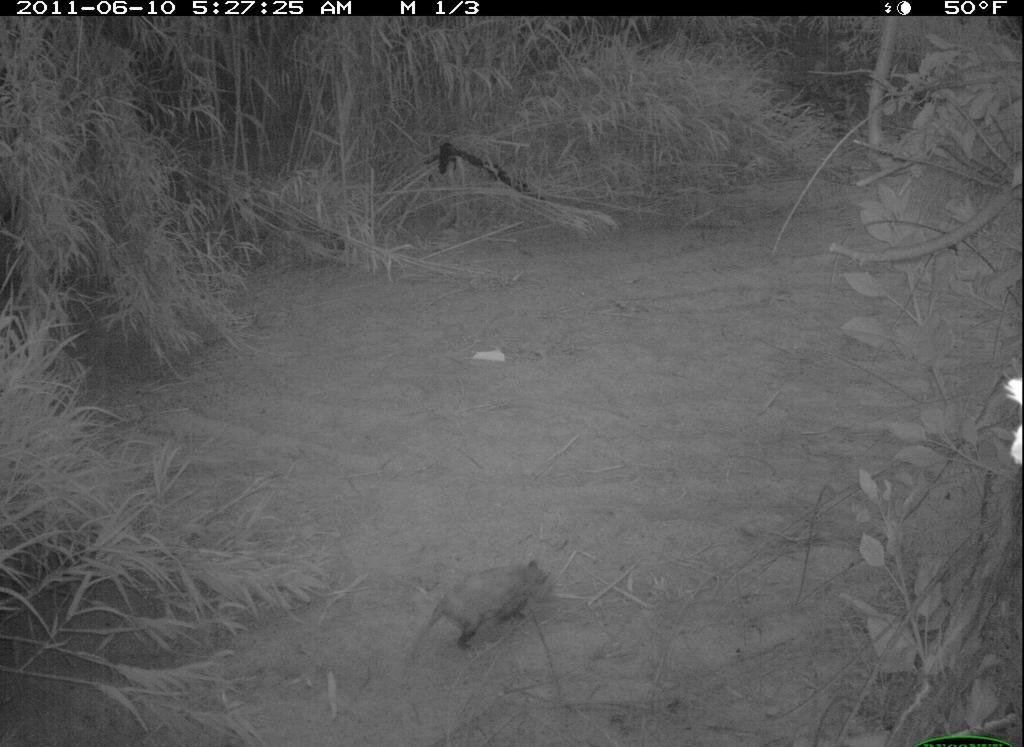opossum: (399, 546, 589, 681)
